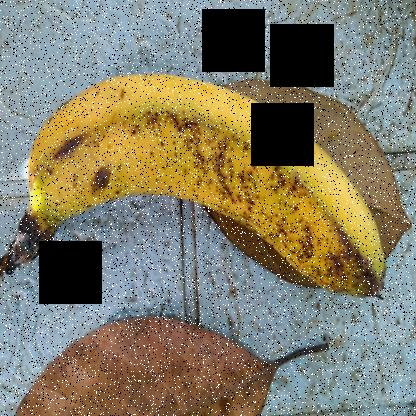ripe: (18, 69, 384, 329)
